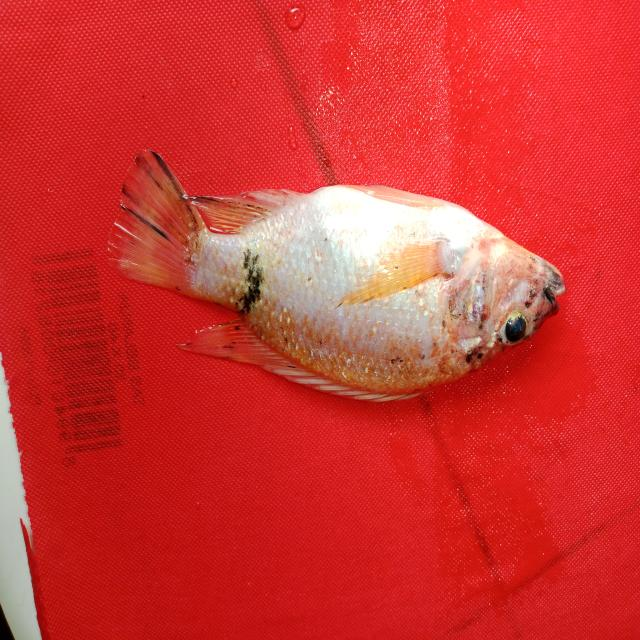ikan: (90, 86, 580, 426)
